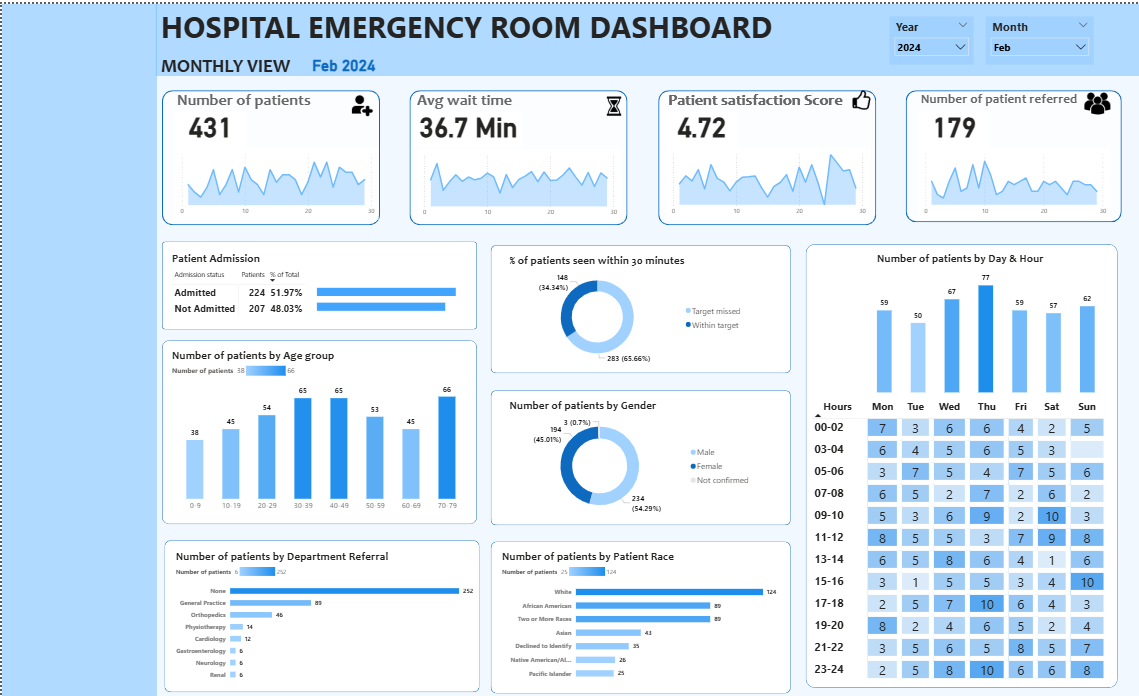

What the dashboard file says about the page in this screenshot:
{"tool":"powerbi","page":{"name":"Page 1","canvas":[2300,1400],"ordinal":0},"visuals":[{"type":"shape","box":[0,0,310,1399],"z":0},{"type":"shape","box":[308,0,1992,144],"z":1000},{"type":"textbox","box":[312,0,1272,96],"z":2000},{"type":"textbox","box":[312,96,312,72],"z":3000},{"type":"shape","box":[320.1,173.3,436,270],"z":4000},{"type":"card","fields":{"Values":["Hospital ER_Data.Number of patients"]},"box":[344.1,216,144,72],"z":5000},{"type":"slicer","fields":{"Values":["Date Table.Year"]},"box":[1776,24,168,96],"z":6000},{"type":"slicer","fields":{"Values":["Date Table.Month Name"]},"box":[1968,24,216,96],"z":7000},{"type":"textbox","box":[344.1,168,384,96],"z":8000},{"type":"areaChart","fields":{"Category":["Date Table.Date.Variation.Date Hierarchy.Day"],"Y":["Hospital ER_Data.Number of patients"]},"box":[344.1,288,408,144],"z":9000},{"type":"card","fields":{"Values":["Min(Date Table.MONTH & YEAR)"]},"box":[600,72,168,96],"z":10000},{"type":"shape","box":[816.1,173.3,436,270],"z":11000},{"type":"card","fields":{"Values":["Hospital ER_Data.Avg wait time"]},"box":[824.1,216,216,72],"z":12000},{"type":"textbox","box":[824.1,168,288,72],"z":13000},{"type":"areaChart","fields":{"Category":["Date Table.Date.Variation.Date Hierarchy.Day"],"Y":["Avg(Hospital ER_Data.Patient Waittime)"]},"box":[828.9,290.6,408,144],"z":14000},{"type":"shape","box":[1312.1,173.3,436,270],"z":15000},{"type":"shape","box":[1808.1,173.3,432,264],"z":16000},{"type":"textbox","box":[1328.1,168,384,96],"z":17000},{"type":"card","fields":{"Values":["Hospital ER_Data.Satisfaction score"]},"box":[1328.1,216,144,72],"z":18000},{"type":"areaChart","fields":{"Category":["Date Table.Date.Variation.Date Hierarchy.Day"],"Y":["Avg(Hospital ER_Data.Patient Satisfaction Score)"]},"box":[1328.1,288,408,144],"z":19000},{"type":"textbox","box":[1328.1,168,384,72],"z":20000},{"type":"textbox","box":[1832.1,168,408,72],"z":21000},{"type":"card","fields":{"Values":["Hospital ER_Data.Patient referred"]},"box":[1832.1,216,144,72],"z":22000},{"type":"areaChart","fields":{"Category":["Date Table.Date.Variation.Date Hierarchy.Day"],"Y":["Hospital ER_Data.Patient referred"]},"box":[1832.1,288,384,144],"z":23000},{"type":"shape","box":[320,476.1,630,176],"z":24000},{"type":"pivotTable","title":"Patient Admission","fields":{"Rows":["Hospital ER_Data.Admission status"],"Values":["Hospital ER_Data.Number of patients1","Hospital ER_Data.Number of patients"]},"box":[336,496,288,144],"z":25000},{"type":"barChart","fields":{"Category":["Hospital ER_Data.Admission status"],"Y":["Hospital ER_Data.Number of patients"]},"box":[624,540.1,320,96],"z":26000},{"type":"shape","box":[320,672.7,630,368],"z":27000},{"type":"clusteredColumnChart","fields":{"Category":["Hospital ER_Data.Age group"],"Y":["Hospital ER_Data.Number of patients"]},"box":[336,688,608,336],"z":28000},{"type":"shape","box":[326,1073,630,304],"z":29000},{"type":"clusteredBarChart","fields":{"Category":["Hospital ER_Data.Department Referral"],"Y":["Hospital ER_Data.Number of patients"]},"box":[342,1089,608,272],"z":30000},{"type":"shape","box":[978.3,482.5,600,256],"z":31000},{"type":"donutChart","title":"% of patients seen within 30 minutes","fields":{"Category":["Hospital ER_Data.Waittime status"],"Y":["Hospital ER_Data.Number of patients"]},"box":[994.3,498.5,512,224],"z":32000},{"type":"shape","box":[976.4,772.8,600,270],"z":33000},{"type":"donutChart","title":"Number of patients by Gender","fields":{"Y":["Hospital ER_Data.Number of patients"],"Category":["Hospital ER_Data.Patient Gender"]},"box":[994.3,786.5,528,240],"z":34000},{"type":"shape","box":[978.3,1074.5,600,304],"z":35000},{"type":"clusteredBarChart","fields":{"Y":["Hospital ER_Data.Number of patients"],"Category":["Hospital ER_Data.Patient Race"]},"box":[994.3,1090.5,560,272],"z":36000},{"type":"shape","box":[1608,480,624,888],"z":37000},{"type":"pivotTable","fields":{"Rows":["Hospital ER_Data.Admission time interval"],"Columns":["Date Table.Day Name"],"Values":["Hospital ER_Data.Number of patients"]},"box":[1616,784,608,576],"z":38000},{"type":"columnChart","title":"Number of patients by Day & Hour","fields":{"Category":["Date Table.Day Name"],"Y":["Hospital ER_Data.Number of patients"]},"box":[1744,496,448,288],"z":39000},{"type":"image","box":[696,168,51,72],"z":40000},{"type":"image","box":[1200,168,48,73],"z":41000},{"type":"image","box":[1696,160,48,64],"z":42000},{"type":"image","box":[2160,168,62,63],"z":43000}]}

Visuals, with their boxes in screenshot pixels (x1, y1, x2, y2), scaled from the page's 2300x1400 canvas onto the 1139x696 screenshot:
shape: crop(0, 0, 154, 695)
shape: crop(153, 0, 1138, 72)
textbox: crop(155, 0, 784, 48)
textbox: crop(155, 48, 309, 84)
shape: crop(159, 86, 374, 220)
card - Hospital ER_Data.Number of patients: crop(170, 107, 242, 143)
slicer - Date Table.Year: crop(880, 12, 963, 60)
slicer - Date Table.Month Name: crop(975, 12, 1082, 60)
textbox: crop(170, 84, 361, 131)
areaChart - Date Table.Date.Variation.Date Hierarchy.Day x Hospital ER_Data.Number of patients: crop(170, 143, 372, 215)
card - Min(Date Table.MONTH & YEAR): crop(297, 36, 380, 84)
shape: crop(404, 86, 620, 220)
card - Hospital ER_Data.Avg wait time: crop(408, 107, 515, 143)
textbox: crop(408, 84, 551, 119)
areaChart - Date Table.Date.Variation.Date Hierarchy.Day x Avg(Hospital ER_Data.Patient Waittime): crop(410, 144, 613, 216)
shape: crop(650, 86, 866, 220)
shape: crop(895, 86, 1109, 217)
textbox: crop(658, 84, 848, 131)
card - Hospital ER_Data.Satisfaction score: crop(658, 107, 729, 143)
areaChart - Date Table.Date.Variation.Date Hierarchy.Day x Avg(Hospital ER_Data.Patient Satisfaction Score): crop(658, 143, 860, 215)
textbox: crop(658, 84, 848, 119)
textbox: crop(907, 84, 1109, 119)
card - Hospital ER_Data.Patient referred: crop(907, 107, 979, 143)
areaChart - Date Table.Date.Variation.Date Hierarchy.Day x Hospital ER_Data.Patient referred: crop(907, 143, 1097, 215)
shape: crop(158, 237, 470, 324)
"Patient Admission" pivotTable: crop(166, 247, 309, 318)
barChart - Hospital ER_Data.Admission status x Hospital ER_Data.Number of patients: crop(309, 269, 467, 316)
shape: crop(158, 334, 470, 517)
clusteredColumnChart - Hospital ER_Data.Age group x Hospital ER_Data.Number of patients: crop(166, 342, 467, 509)
shape: crop(161, 533, 473, 685)
clusteredBarChart - Hospital ER_Data.Department Referral x Hospital ER_Data.Number of patients: crop(169, 541, 470, 677)
shape: crop(484, 240, 782, 367)
"% of patients seen within 30 minutes" donutChart: crop(492, 248, 746, 359)
shape: crop(484, 384, 781, 518)
"Number of patients by Gender" donutChart: crop(492, 391, 754, 510)
shape: crop(484, 534, 782, 685)
clusteredBarChart - Hospital ER_Data.Number of patients x Hospital ER_Data.Patient Race: crop(492, 542, 770, 677)
shape: crop(796, 239, 1105, 680)
pivotTable - Hospital ER_Data.Admission time interval x Date Table.Day Name: crop(800, 390, 1101, 676)
"Number of patients by Day & Hour" columnChart: crop(864, 247, 1086, 390)
image: crop(345, 84, 370, 119)
image: crop(594, 84, 618, 120)
image: crop(840, 80, 864, 111)
image: crop(1070, 84, 1100, 115)
